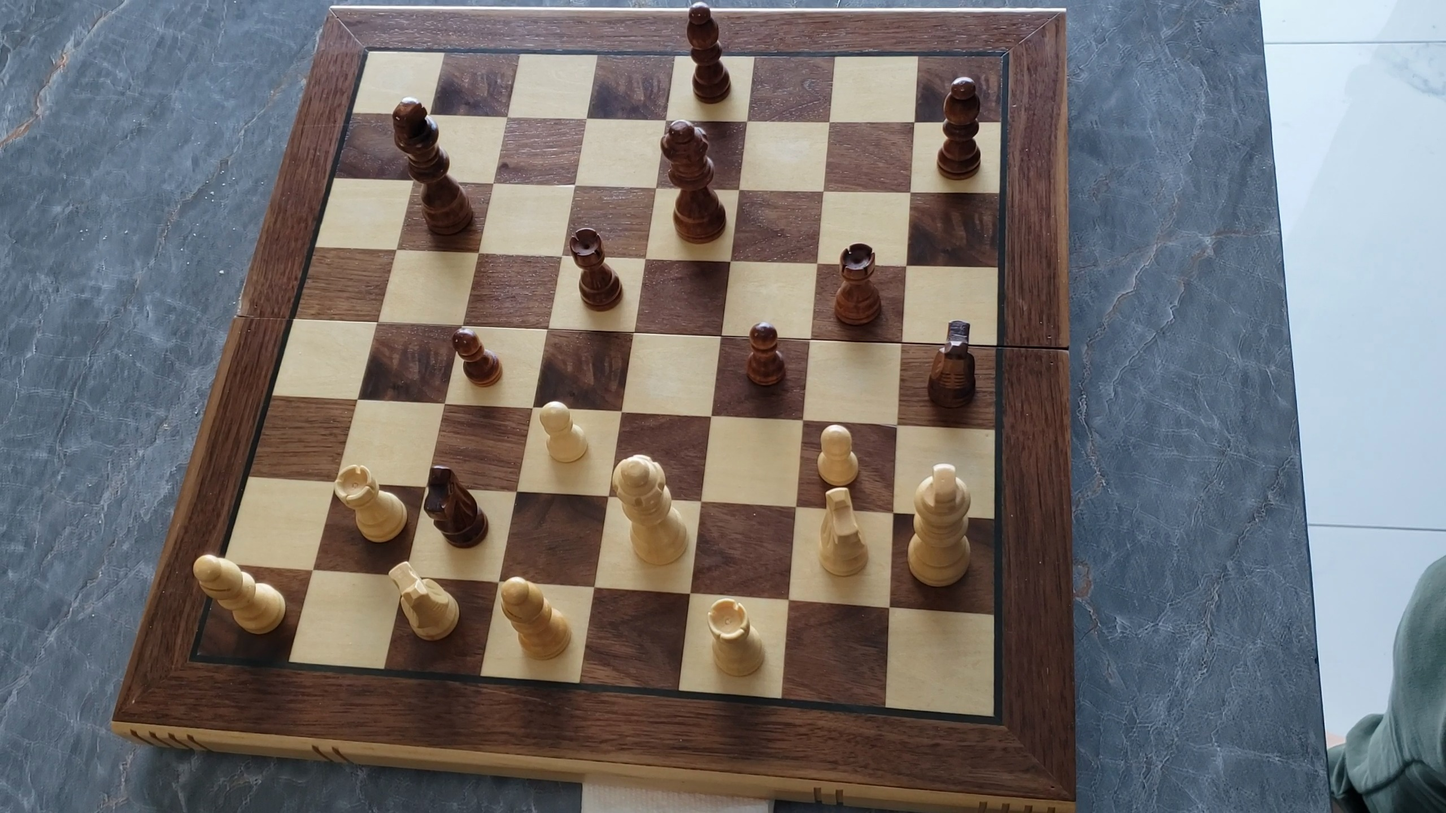black-bishop: (935, 72, 984, 180), (682, 0, 732, 104)
black-king: (390, 97, 475, 242)
black-knight: (423, 462, 490, 548), (926, 318, 978, 408)
black-pawn: (448, 324, 505, 388), (743, 318, 787, 389)
black-queen: (659, 116, 728, 244)
black-rook: (565, 224, 624, 312), (830, 241, 882, 327)
white-bishop: (188, 550, 290, 638), (493, 572, 577, 663)
white-king: (903, 461, 977, 592)
white-knight: (382, 558, 464, 646), (813, 484, 872, 580)
white-pawn: (533, 396, 592, 467), (812, 420, 864, 491)
white-queen: (606, 452, 694, 570)
white-rook: (331, 460, 408, 547), (699, 592, 769, 683)
